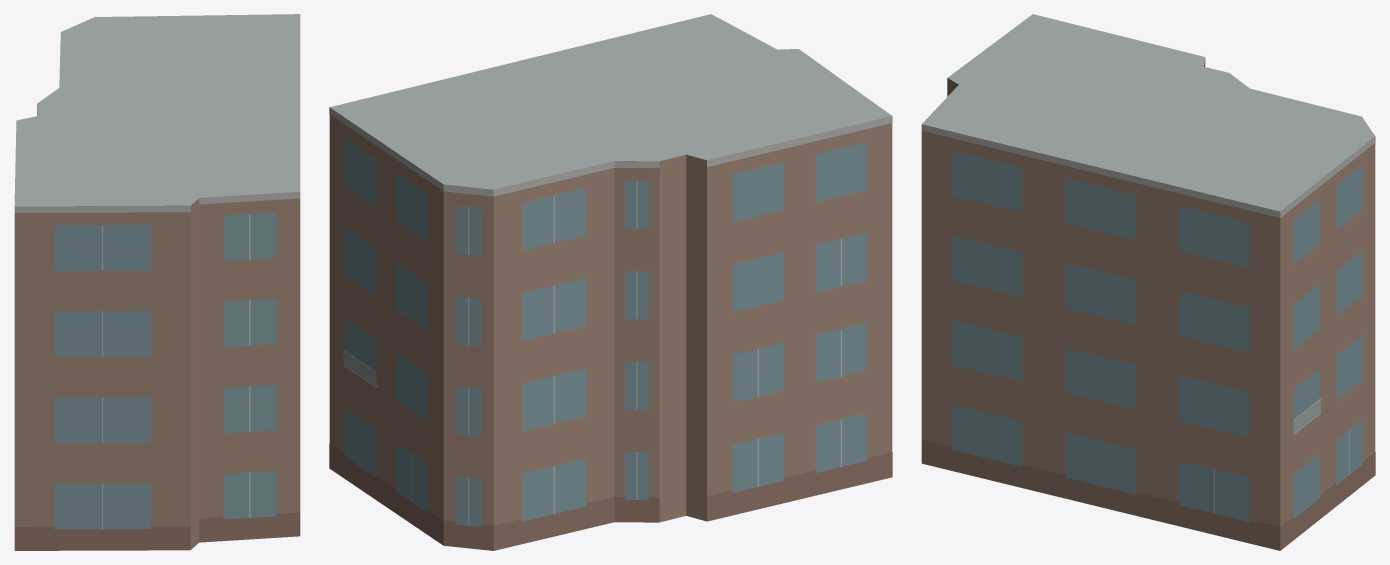
The model's file is survey-upis-32632192.glb.
3 renders of one model, left to right at view 1: azimuth 30°, elevation 25°; view 2: azimuth 150°, elevation 25°; view 3: azimuth 270°, elevation 25°, orthographic. The views are drawn at different scales.
Visible parts, largest first — view 1: survey-upis-32632192.tmp; view 2: survey-upis-32632192.tmp; view 3: survey-upis-32632192.tmp.
Part boxes in pixels (x1,y1,x2,y2): survey-upis-32632192.tmp: (14,14,300,550); survey-upis-32632192.tmp: (329,14,892,550); survey-upis-32632192.tmp: (921,14,1375,550).
Size of the model in its own units: 16 by 12.8 by 15.53.
